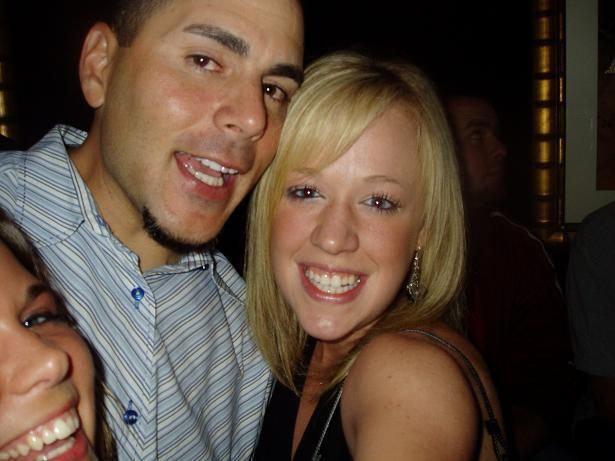Drunk: (144, 2, 276, 233), (289, 117, 409, 334)
